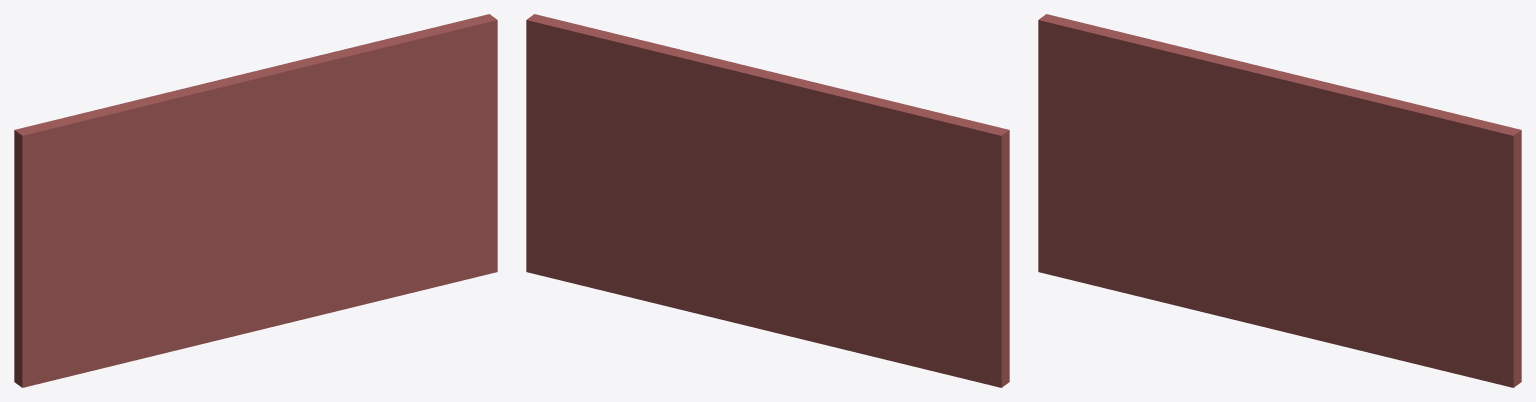
The model's file is first_ticket.fbx.
The picture shows the model from 3 angles, left to right: view 1: azimuth 30°, elevation 25°; view 2: azimuth 150°, elevation 25°; view 3: azimuth 330°, elevation 25°; orthographic projection.
Parts seen in each view (by area): view 1: pCube6; view 2: pCube6; view 3: pCube6.
Boxes of the visible parts, x1,y1,x2,y2 form: pCube6: (14, 14, 497, 387); pCube6: (526, 14, 1009, 387); pCube6: (1038, 14, 1521, 387).
Bounding box in the file's own units: 120 × 60.95 × 3.55.
